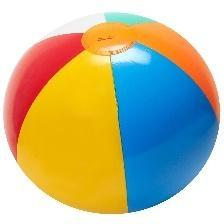Sports-Ball: (5, 12, 221, 216)
